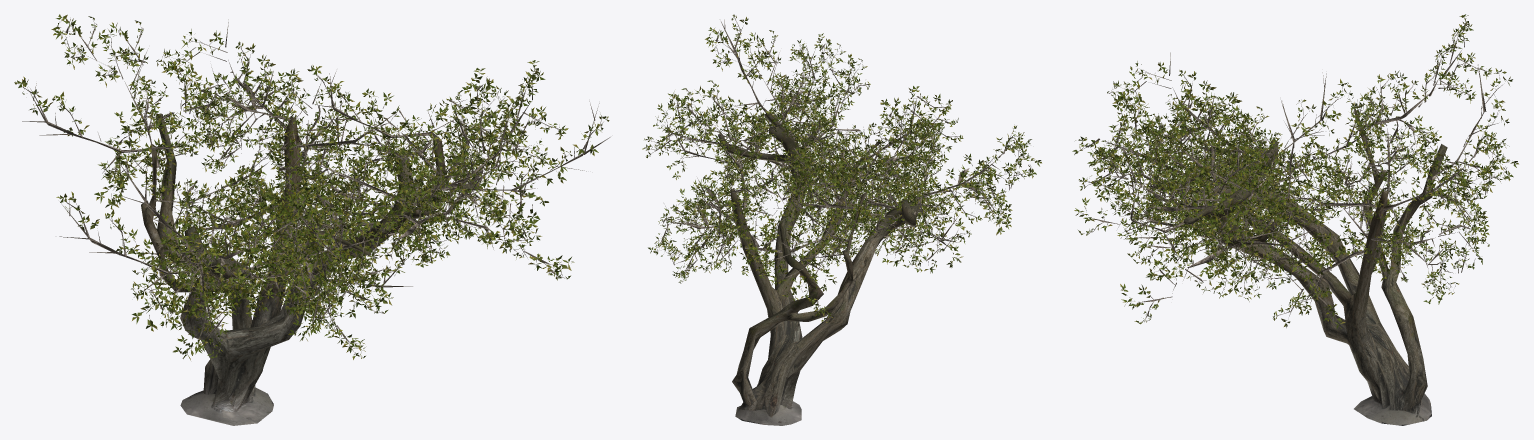
The model's file is island_tree_02.glb.
3 views of the same model, side by side, from view 1: azimuth 30°, elevation 25°; view 2: azimuth 150°, elevation 25°; view 3: azimuth 270°, elevation 25° (orthographic). The views are drawn at different scales.
Parts seen in each view (by area): view 1: sb_modello; view 2: sb_modello; view 3: sb_modello.
Boxes of the visible parts, left/top/right/bottom form: sb_modello: left=14, top=14, right=610, bottom=425; sb_modello: left=642, top=14, right=1041, bottom=425; sb_modello: left=1072, top=14, right=1518, bottom=425.
Size of the model in its own units: 4.01 by 3.42 by 4.07.
3 materials, 3 textured.
